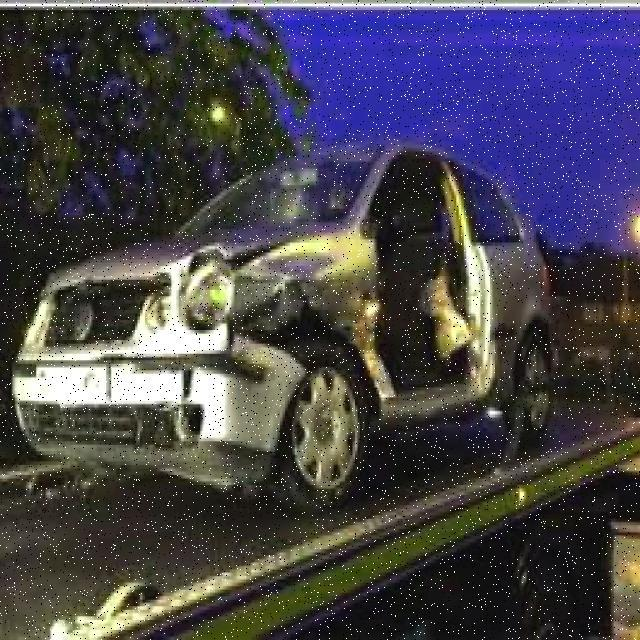car damage: (94, 150, 498, 494)
